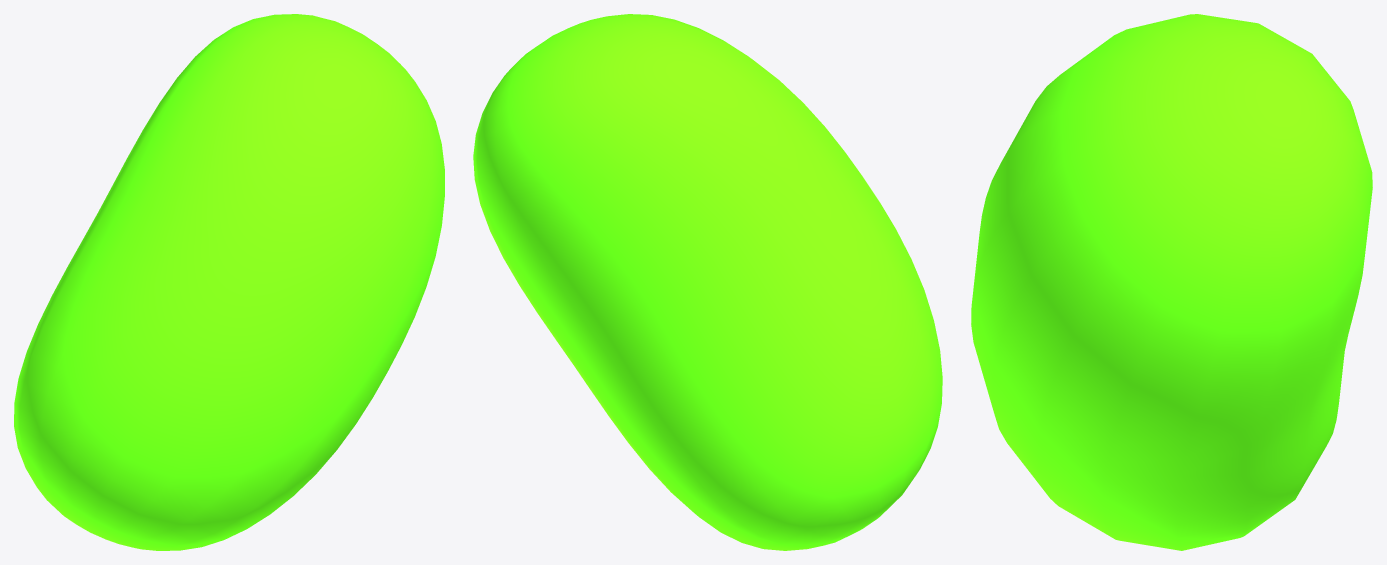
The picture shows the model from 3 angles, left to right: view 1: azimuth 30°, elevation 25°; view 2: azimuth 150°, elevation 25°; view 3: azimuth 270°, elevation 25°; orthographic projection. The views are drawn at different scales.
Parts seen in each view (by area): view 1: JumboJellyBean.025; view 2: JumboJellyBean.025; view 3: JumboJellyBean.025.
Part boxes in pixels (box(x1,y1,x2,y2)): JumboJellyBean.025: box(14, 14, 444, 550); JumboJellyBean.025: box(473, 14, 942, 550); JumboJellyBean.025: box(971, 14, 1372, 550).
Size of the model in its own units: 1.06 by 1.17 by 0.7338.
